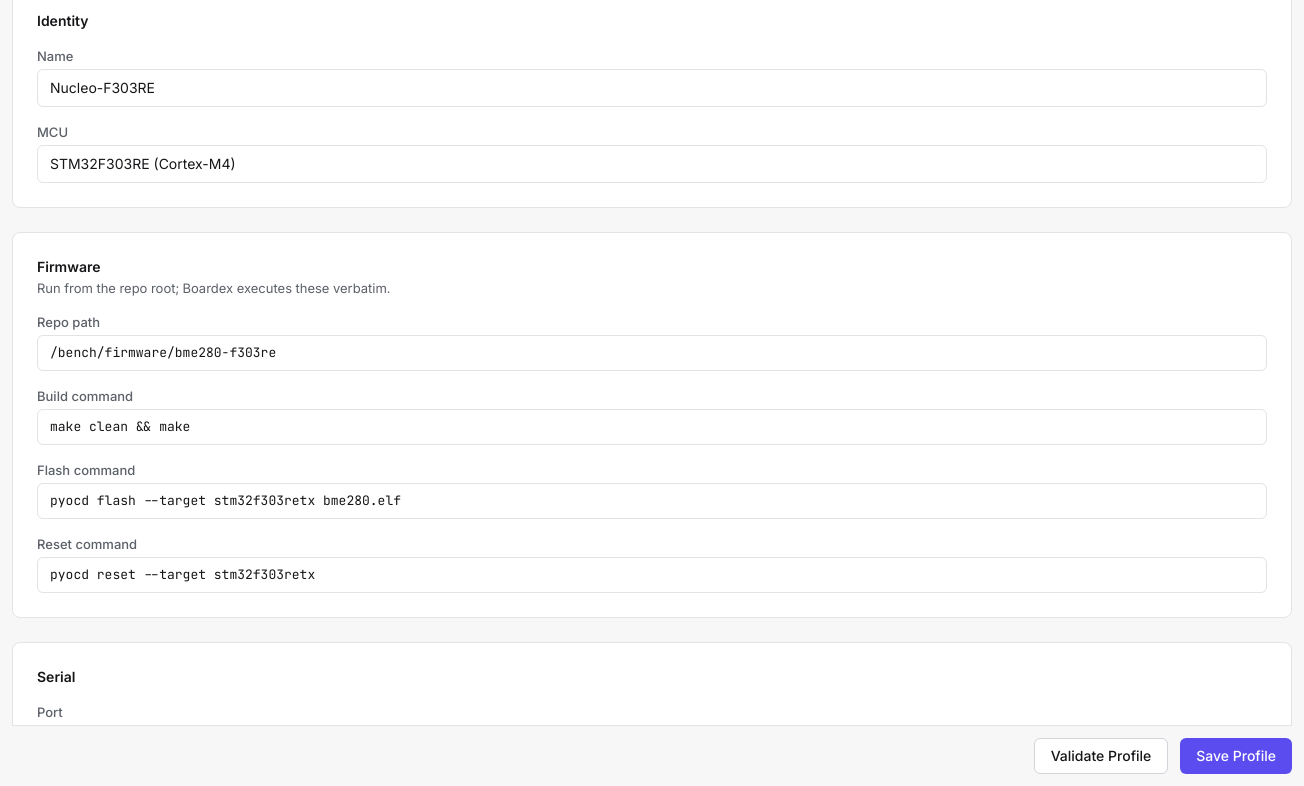
Test: Validate Profile against the bench (§7.5) › warns instead of guessing when the bench cannot be read
Click the button "Validate Profile" at (1101, 756), box 1034,738 -> 1168,774
(page scrolled)
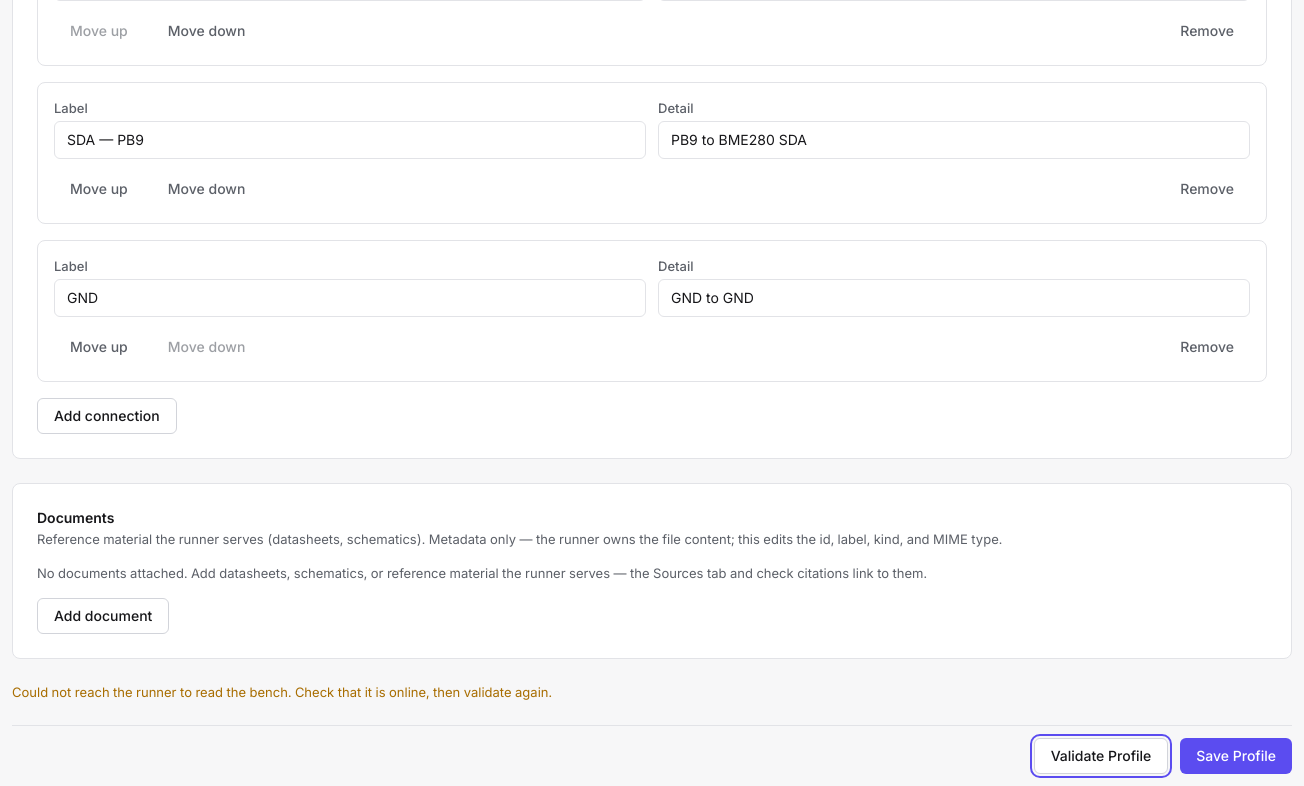
Result: the message shows "Could not reach the runner" at 12,684 -> 552,700
